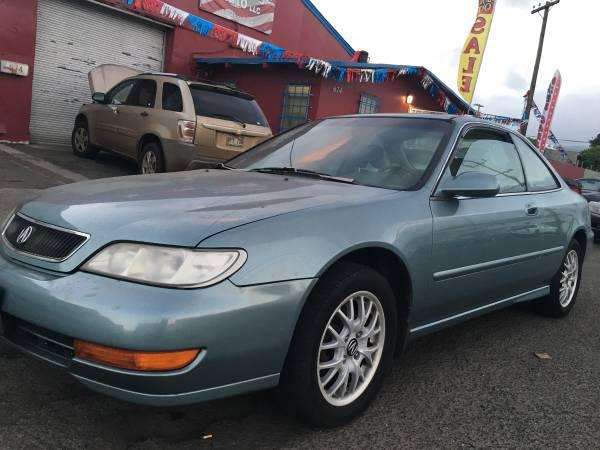acura: (1, 112, 600, 427)
